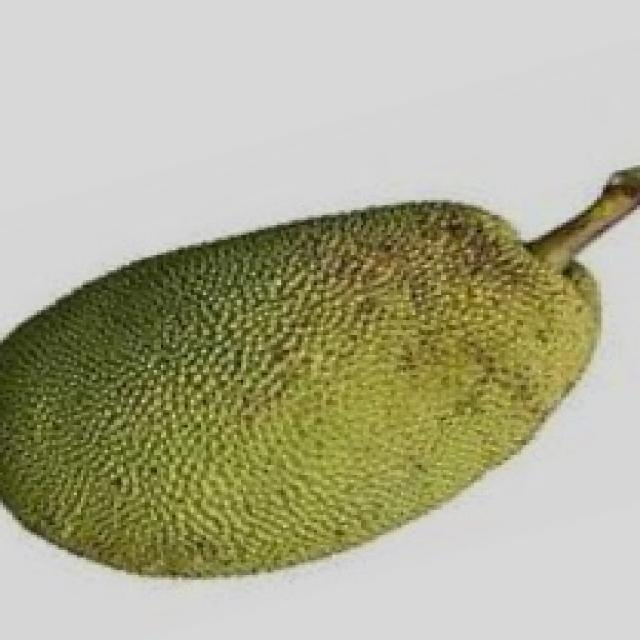Fruit: (0, 212, 400, 628), (246, 178, 634, 562)
